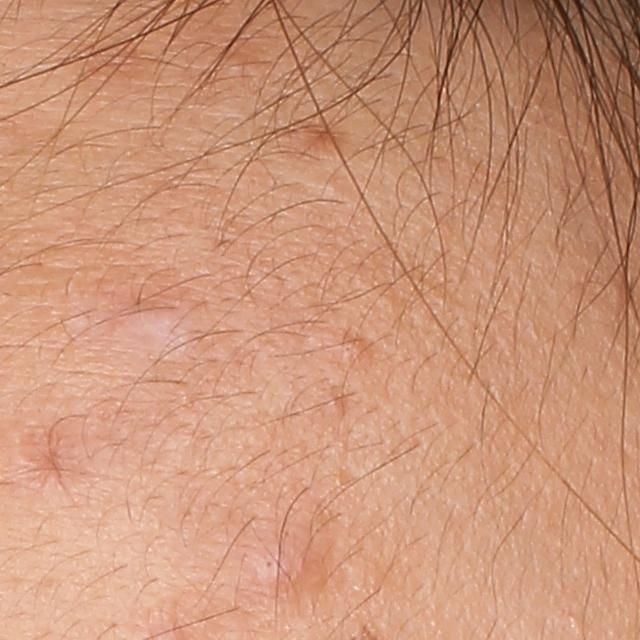comedo: (250, 549, 299, 594), (334, 333, 370, 369), (321, 394, 345, 415), (569, 613, 586, 635)
hypertrophic_scar: (109, 295, 205, 345)
